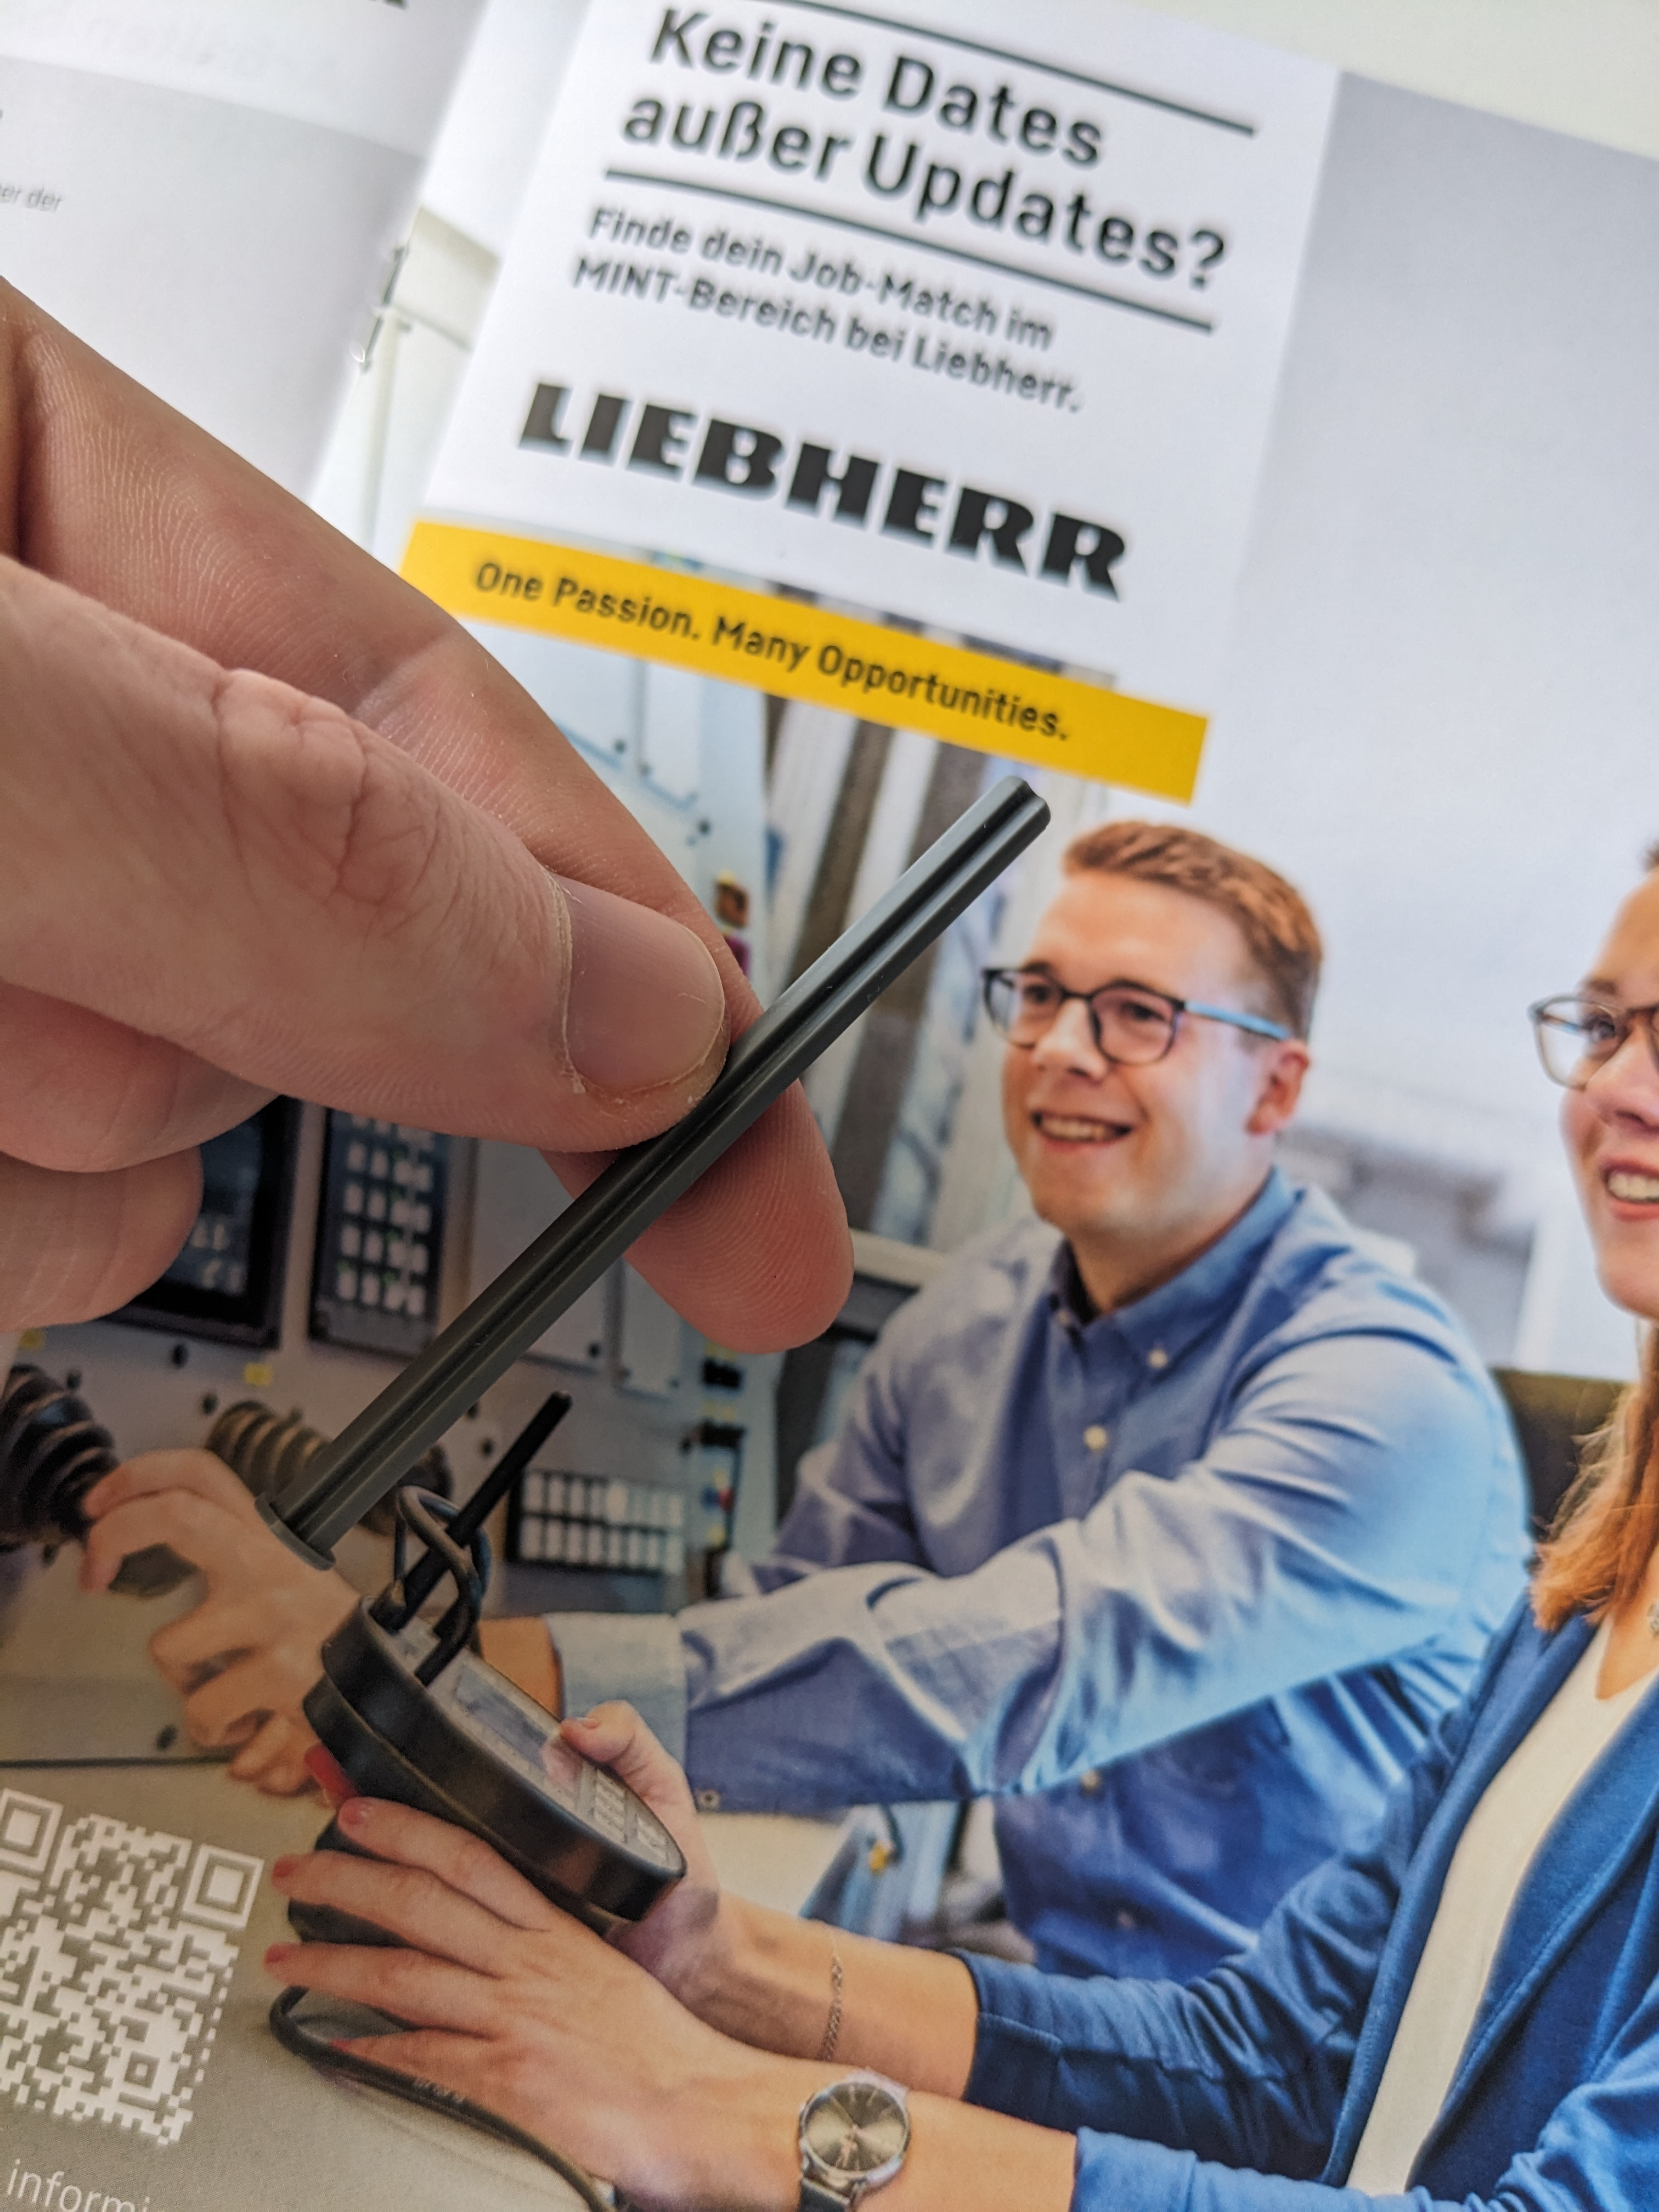Grau_lang: (232, 752, 1080, 1597)
